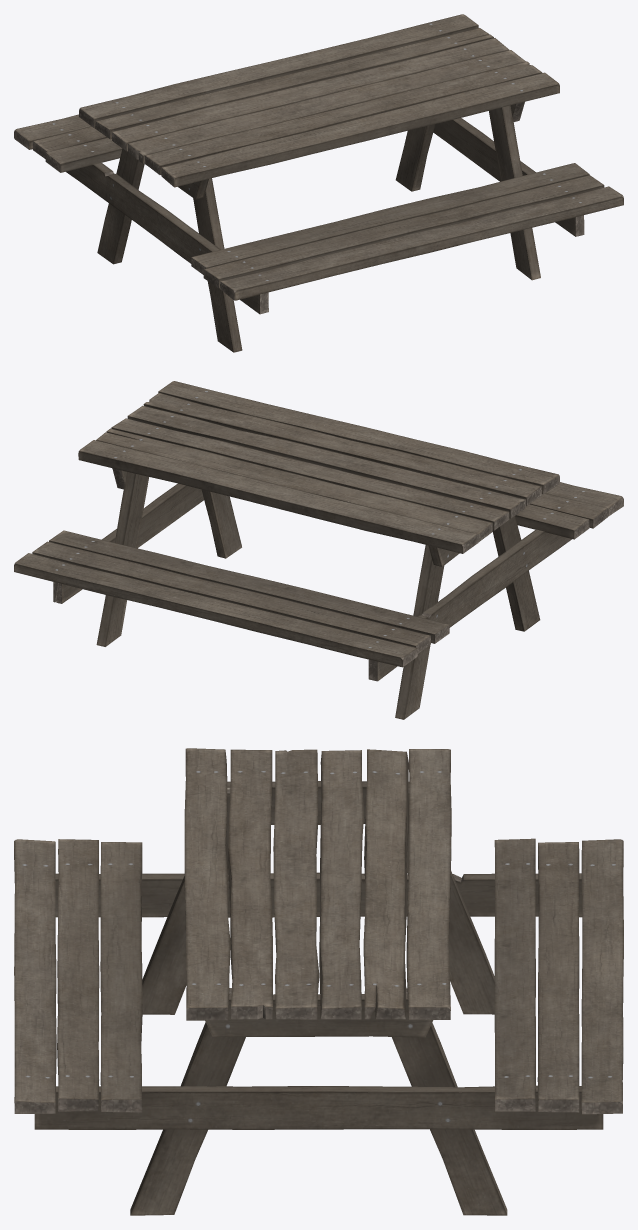
3 views of the same model, one above another, from view 1: azimuth 30°, elevation 25°; view 2: azimuth 150°, elevation 25°; view 3: azimuth 270°, elevation 25° (orthographic). The views are drawn at different scales.
Parts seen in each view (by area): view 1: PicnicTable; view 2: PicnicTable; view 3: PicnicTable.
Boxes of the visible parts, x1=… form: PicnicTable: x1=14, y1=14, x2=623, y2=352; PicnicTable: x1=14, y1=381, x2=623, y2=719; PicnicTable: x1=14, y1=748, x2=623, y2=1215.
Size of the model in its own units: 1.8 by 0.7513 by 1.77.
Materials: 1 (1 with a texture image).
